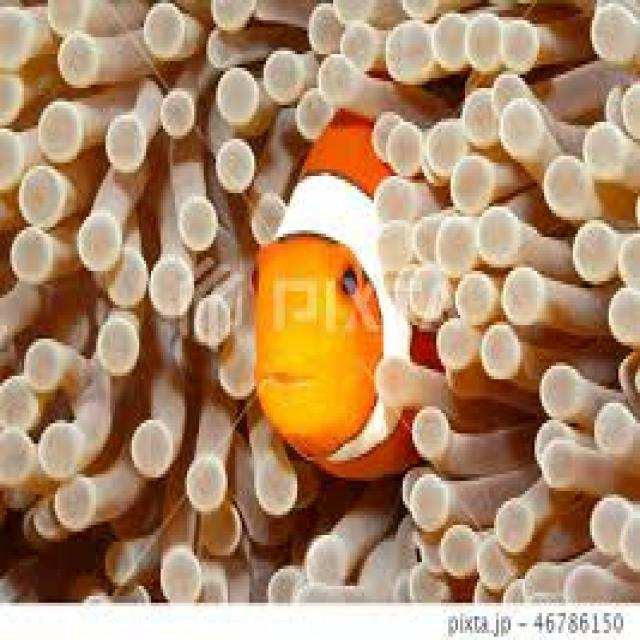ClownFish: (229, 94, 486, 494)
